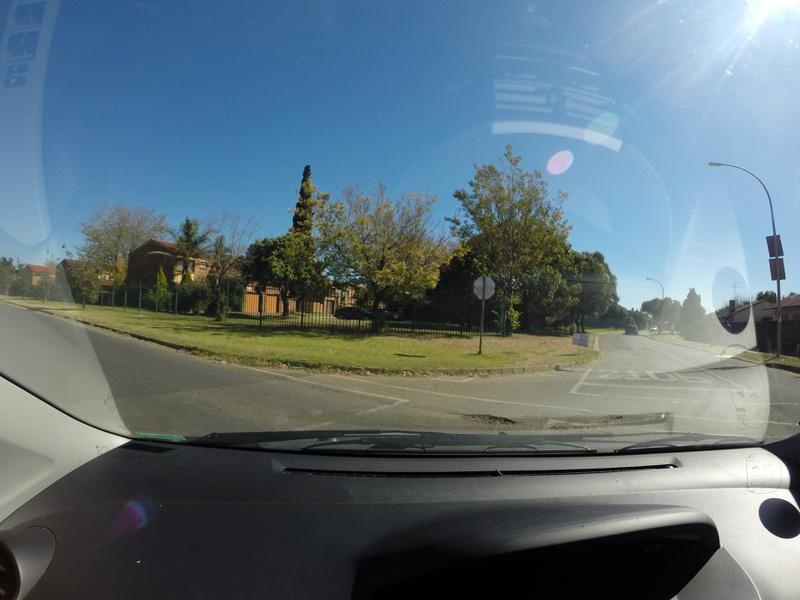pothole: (462, 409, 523, 426)
